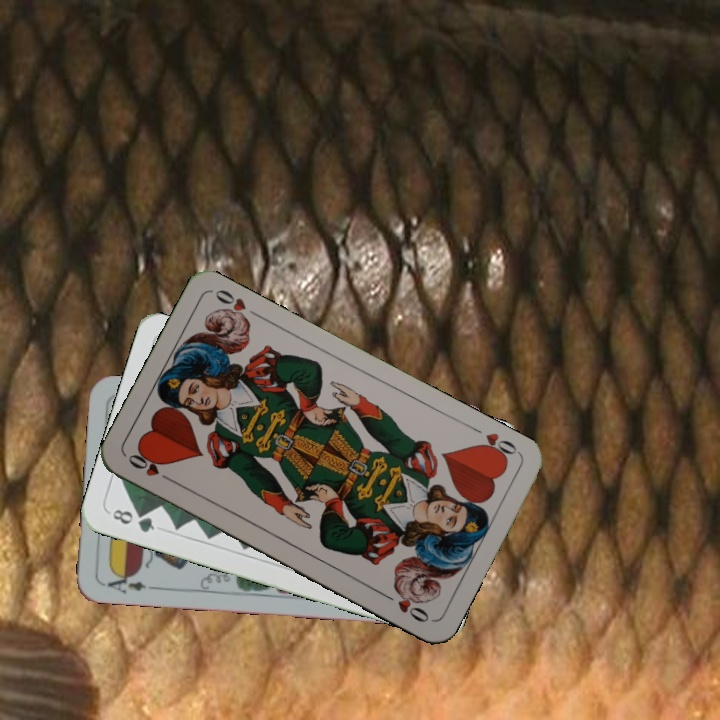EA: (100, 568, 159, 597)
G8: (105, 505, 158, 535)
HO: (124, 449, 178, 486), (470, 428, 522, 464)
